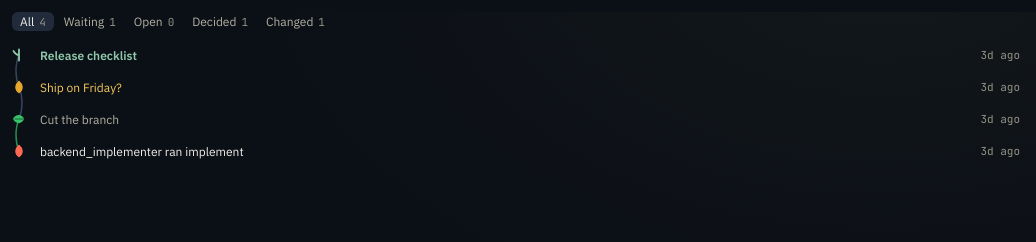
Test: LivingMap › opens details just under the clicked row, and Escape hands focus back to it
The image size is (1036, 242).
Click the button "Cut the branch" at point(76, 119), box [34,110,972,128]
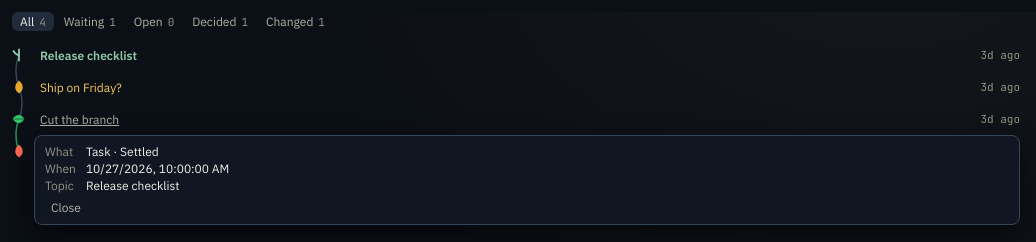
Press Escape in the element named "Details: Cut the branch", box [34,135,1020,225]
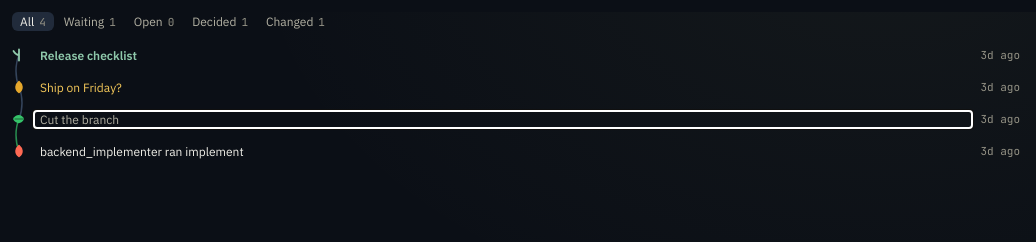
Expected: the button "Cut the branch" is collapsed, [34,110,972,128]
